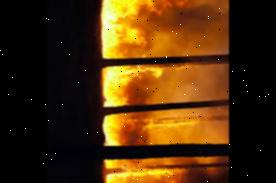fire: (96, 0, 210, 183)
